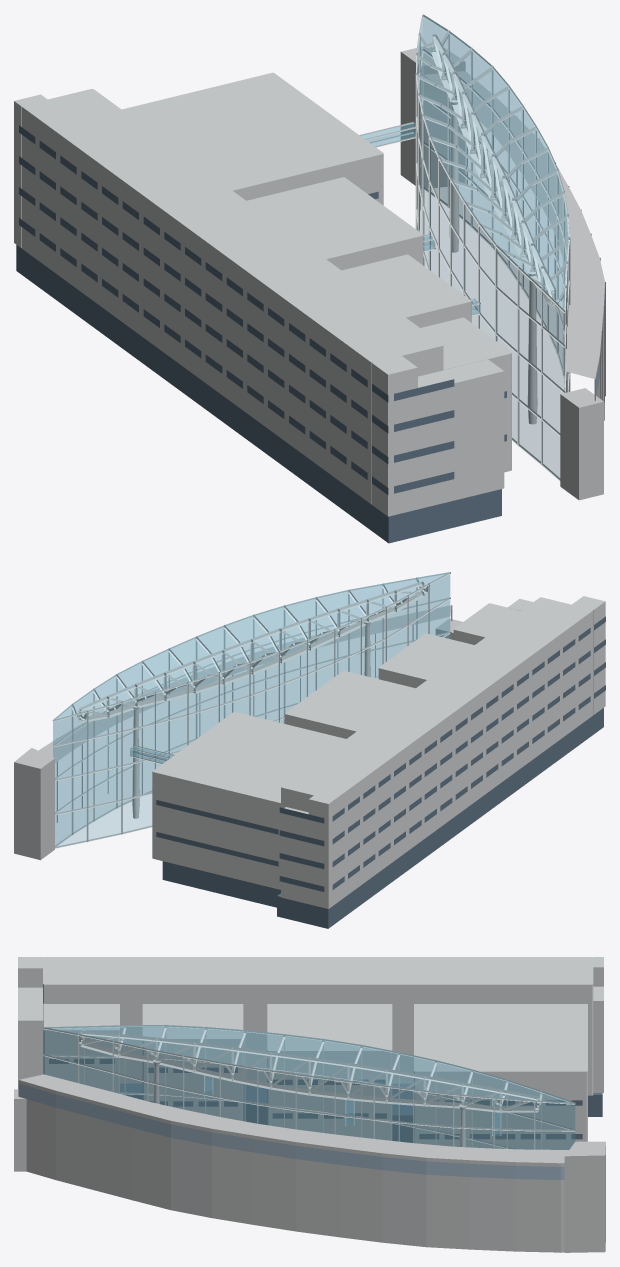
File: tokyo-international-forum.glb
The picture shows the model from 3 angles, top to bottom: view 1: azimuth 30°, elevation 25°; view 2: azimuth 150°, elevation 25°; view 3: azimuth 270°, elevation 25°; orthographic projection. The views are drawn at different scales.
Visible parts, largest first — view 1: Tokyo International Forum; view 2: Tokyo International Forum; view 3: Tokyo International Forum.
Boxes of the visible parts, x1,y1,x2,y2 form: Tokyo International Forum: (14, 14, 605, 543); Tokyo International Forum: (14, 572, 605, 928); Tokyo International Forum: (14, 957, 605, 1252).
Bounding box in the file's own units: 145 × 60 × 222.
